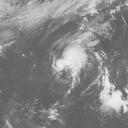cyclone: (53, 31, 101, 86)
